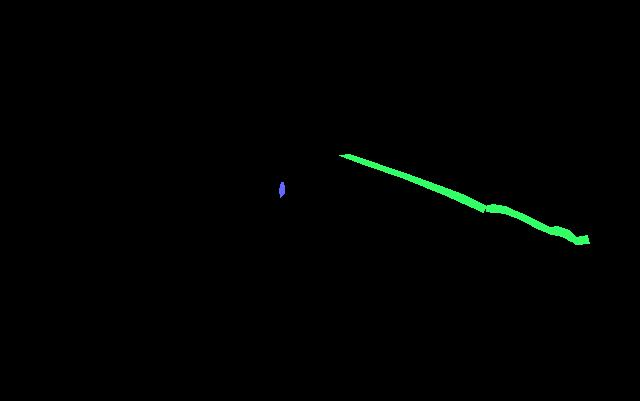Broken part: (339, 154, 485, 212), (485, 204, 580, 241), (570, 235, 589, 244)
Scratch: (279, 182, 284, 197)
